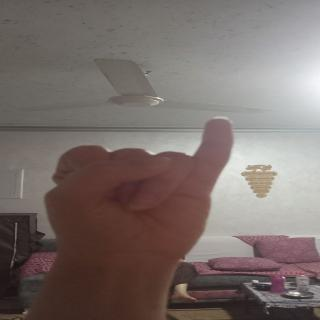MEEM: (37, 117, 246, 241)
